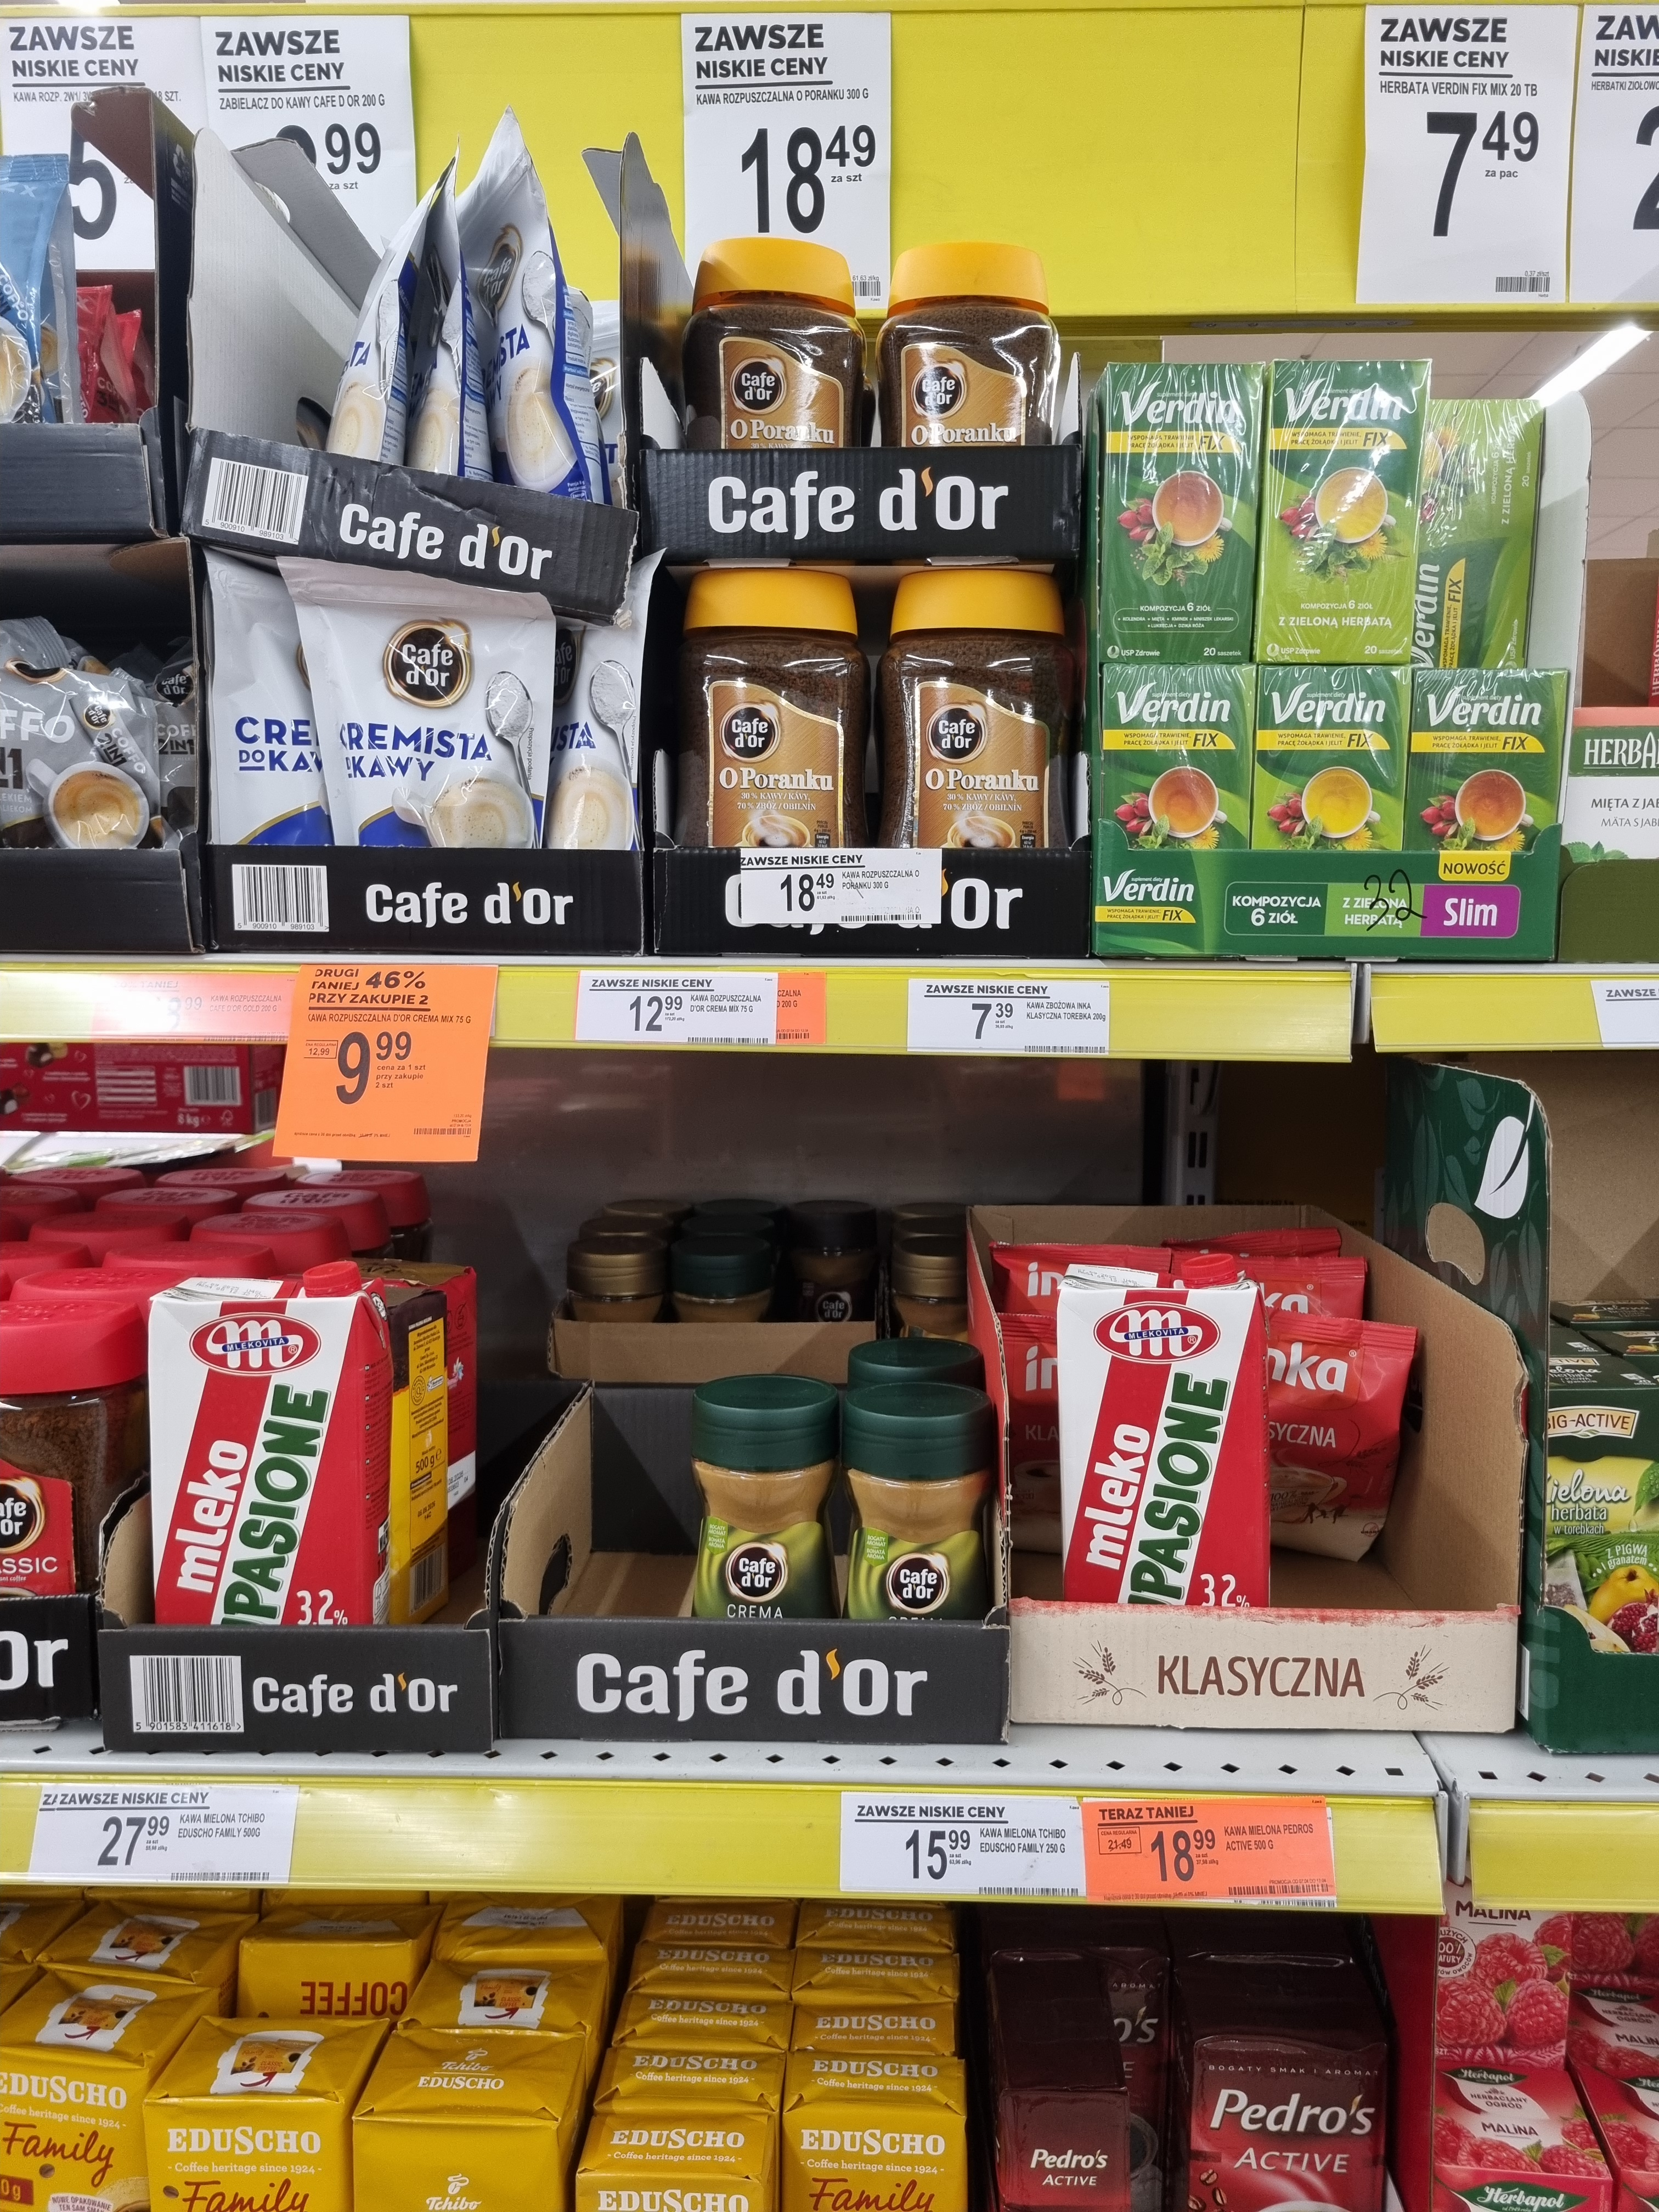Milk: (134, 1259, 383, 1630), (1053, 1273, 1272, 1606)
